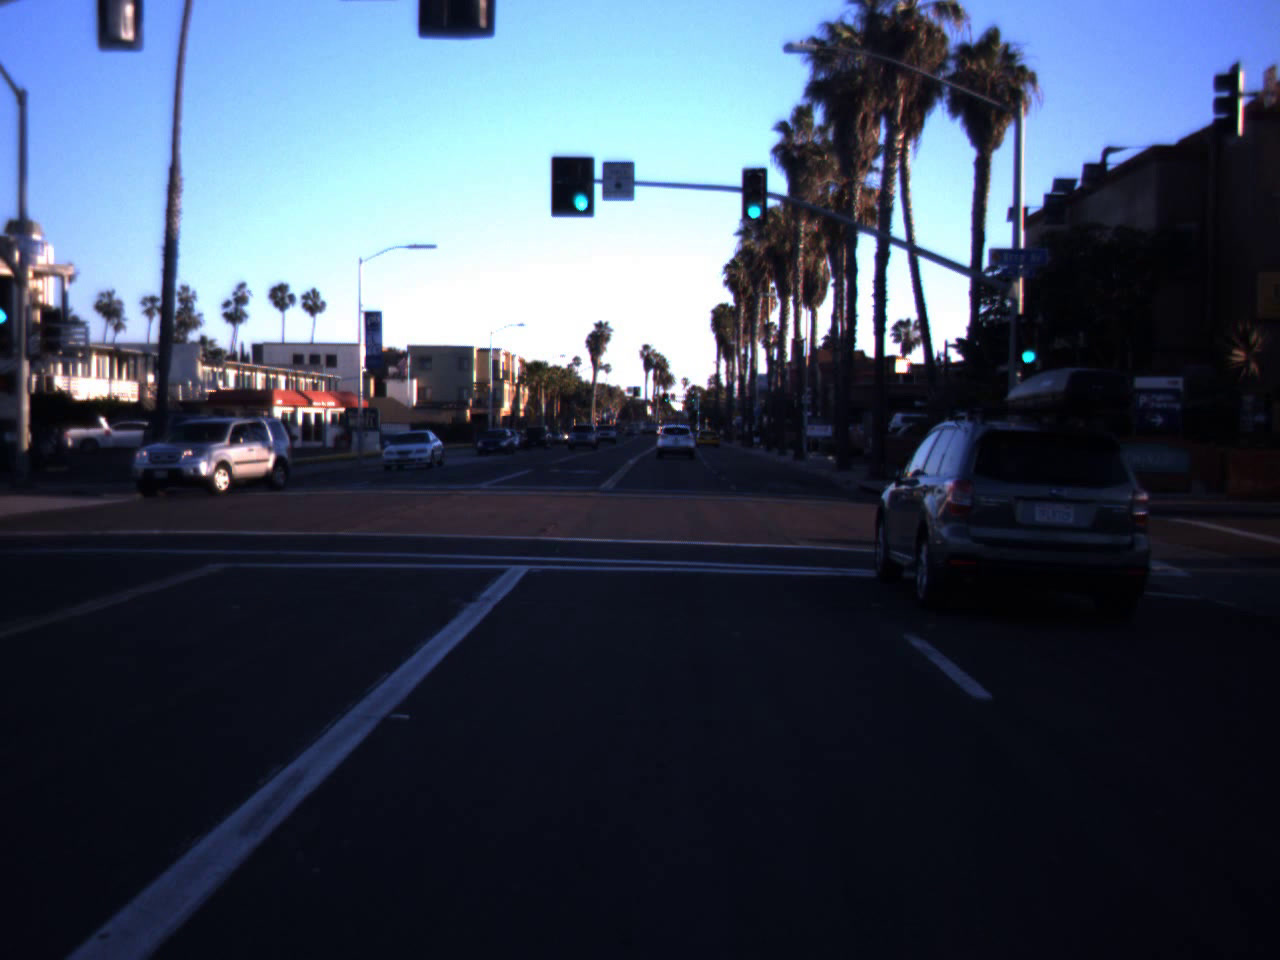go: (565, 147, 598, 217), (738, 168, 771, 223), (1012, 317, 1045, 367)
